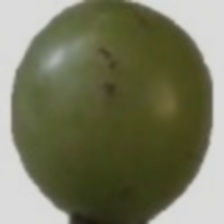grapes: (1, 33, 198, 192)
